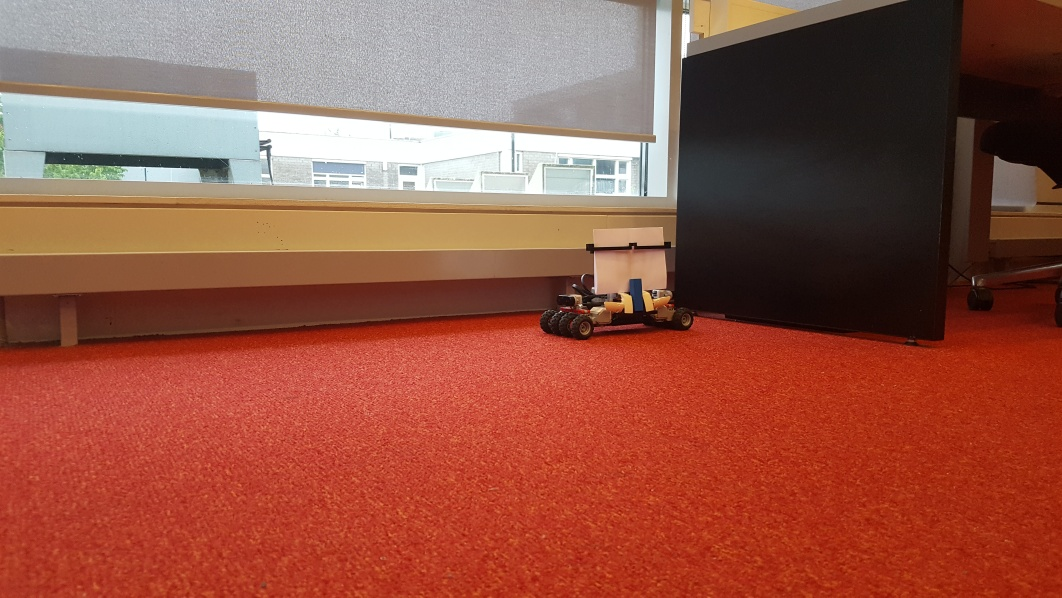car: (542, 228, 696, 337)
